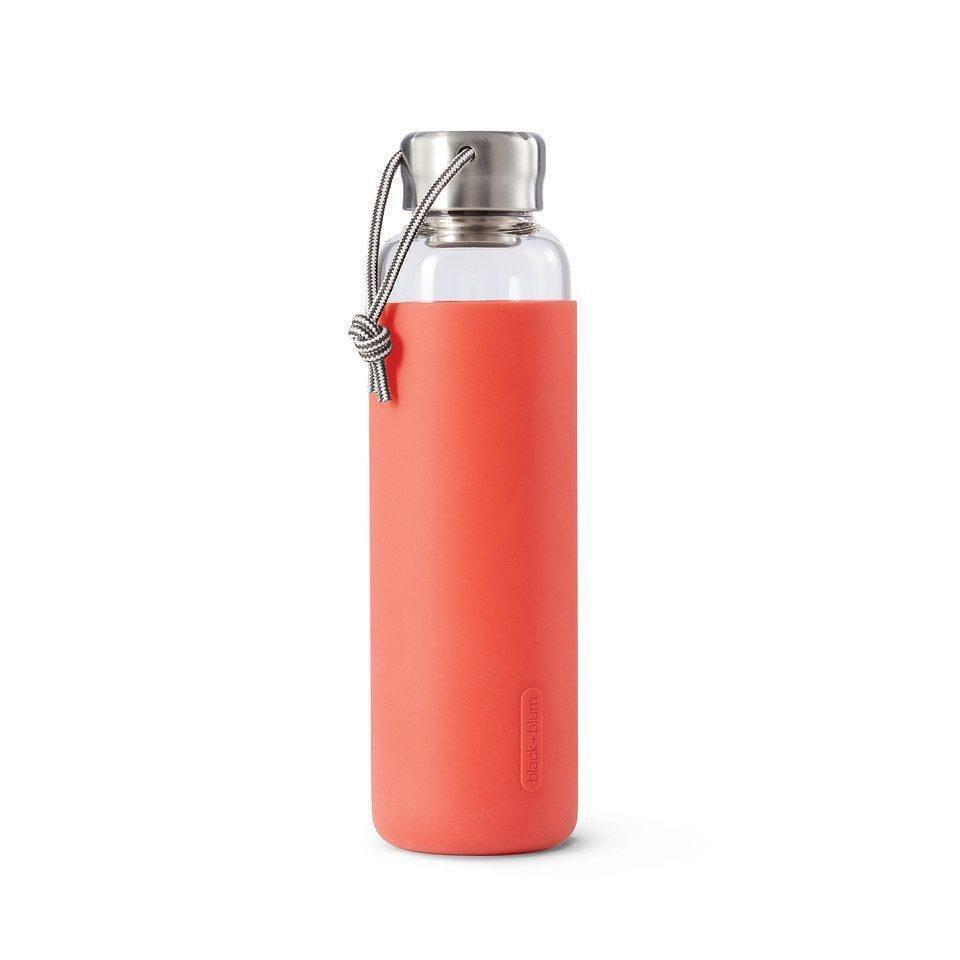gym bottle: (349, 104, 590, 862)
